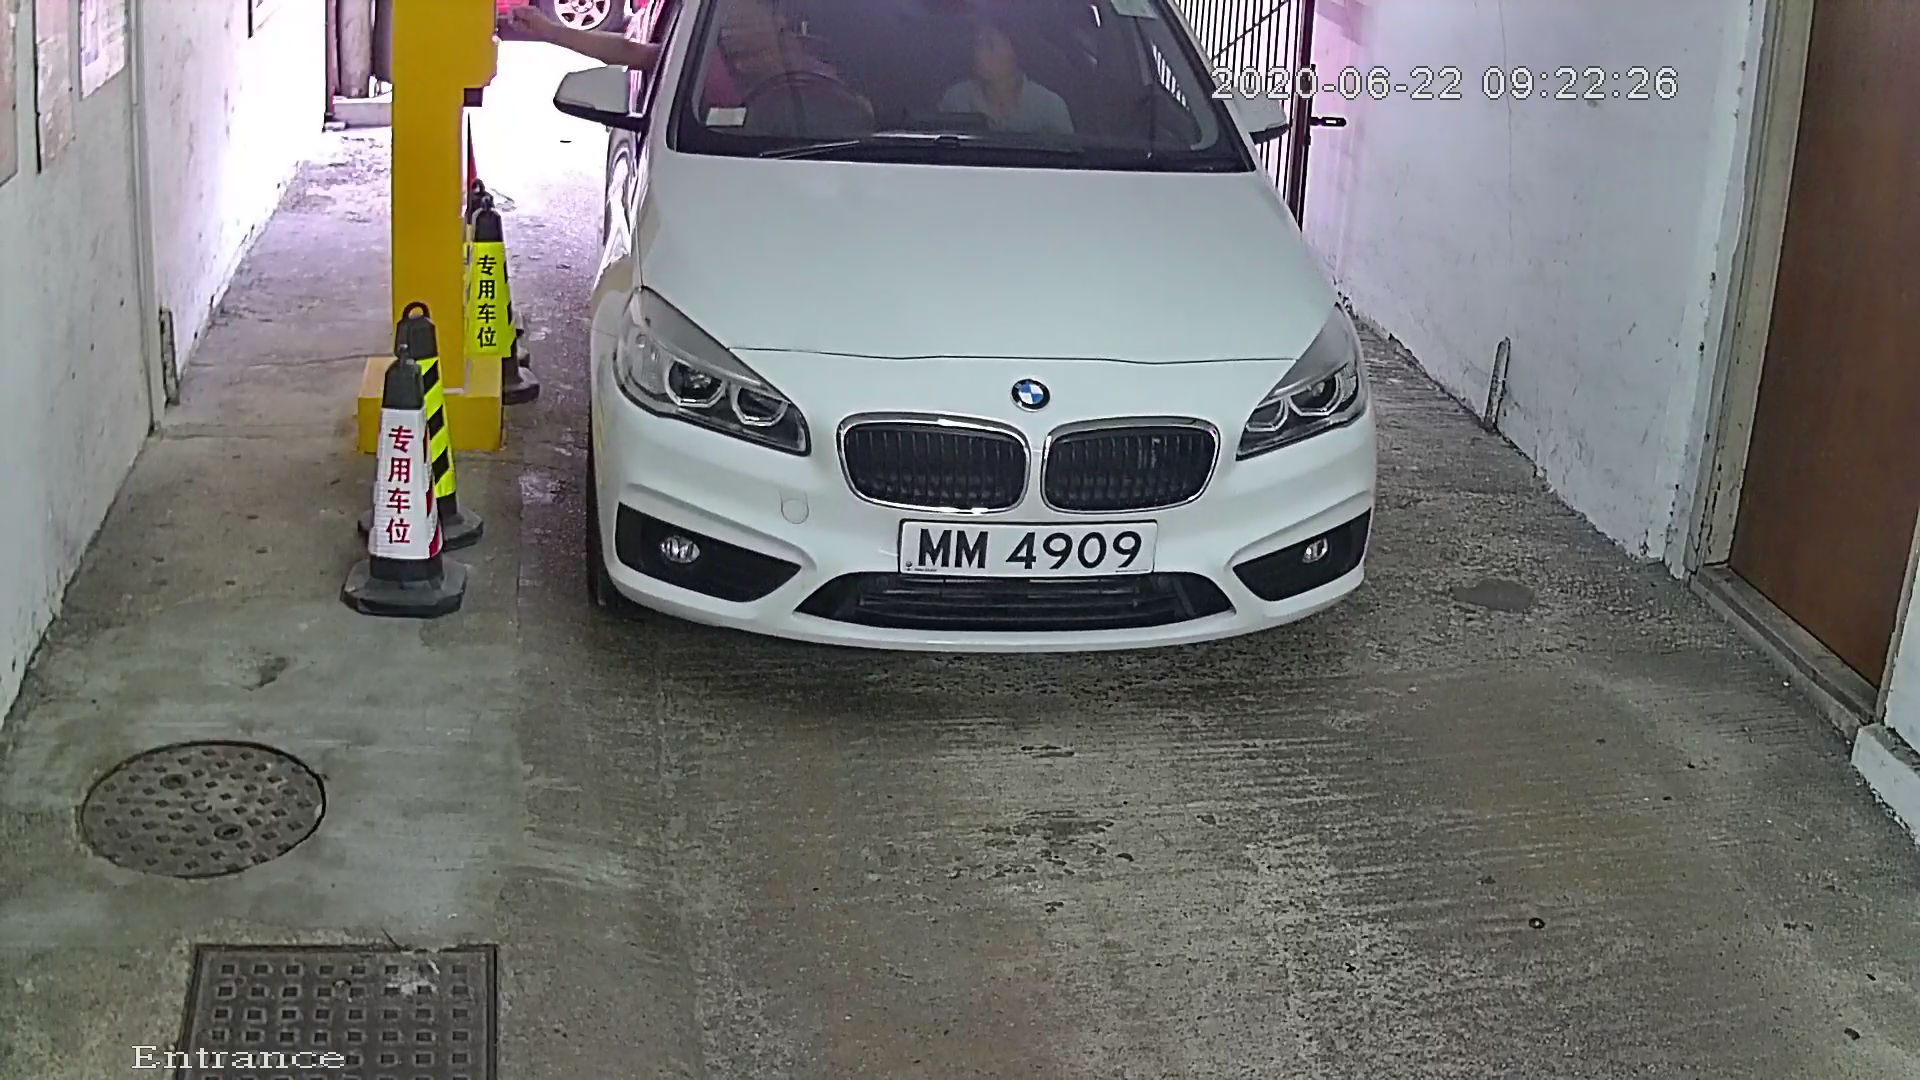privatecar: (497, 3, 1460, 735)
